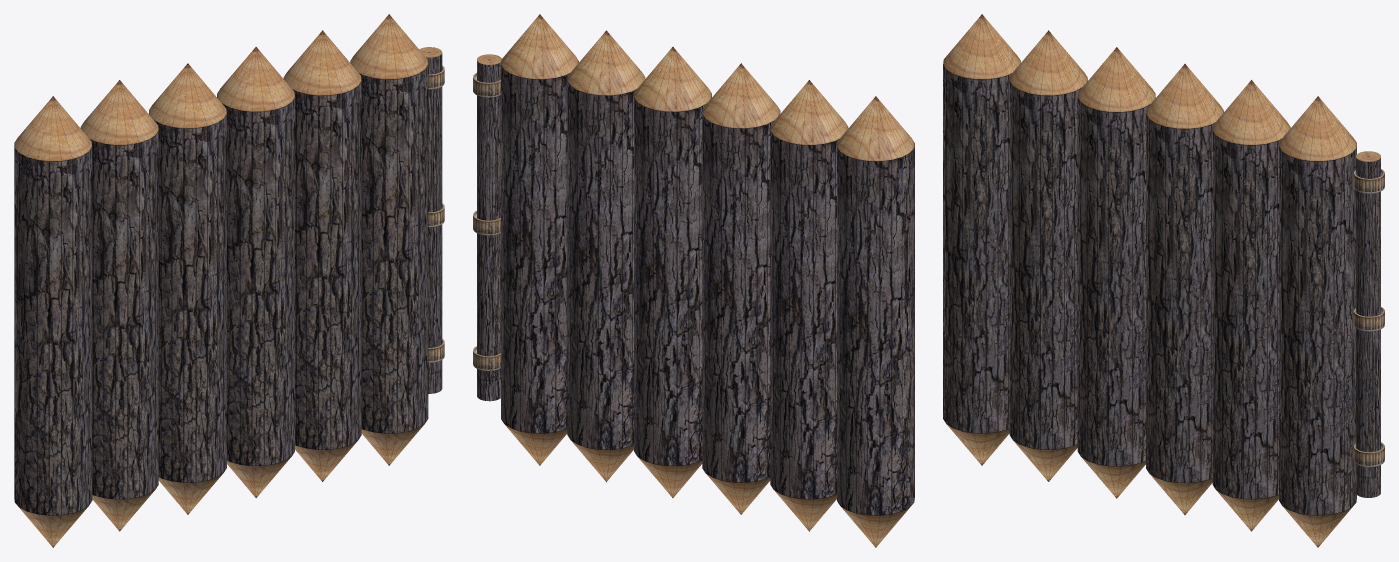
The model's file is Gate-Side2.fbx.
3 renders of one model, left to right at view 1: azimuth 30°, elevation 25°; view 2: azimuth 150°, elevation 25°; view 3: azimuth 330°, elevation 25°, orthographic.
Parts seen in each view (by area): view 1: polySurface3; view 2: polySurface3; view 3: polySurface3.
Part boxes in pixels (x1,y1,x2,y2): polySurface3: [14, 14, 444, 547]; polySurface3: [473, 14, 914, 547]; polySurface3: [943, 14, 1384, 547].
Bounding box in the file's own units: 7.48 × 7.53 × 1.18.
